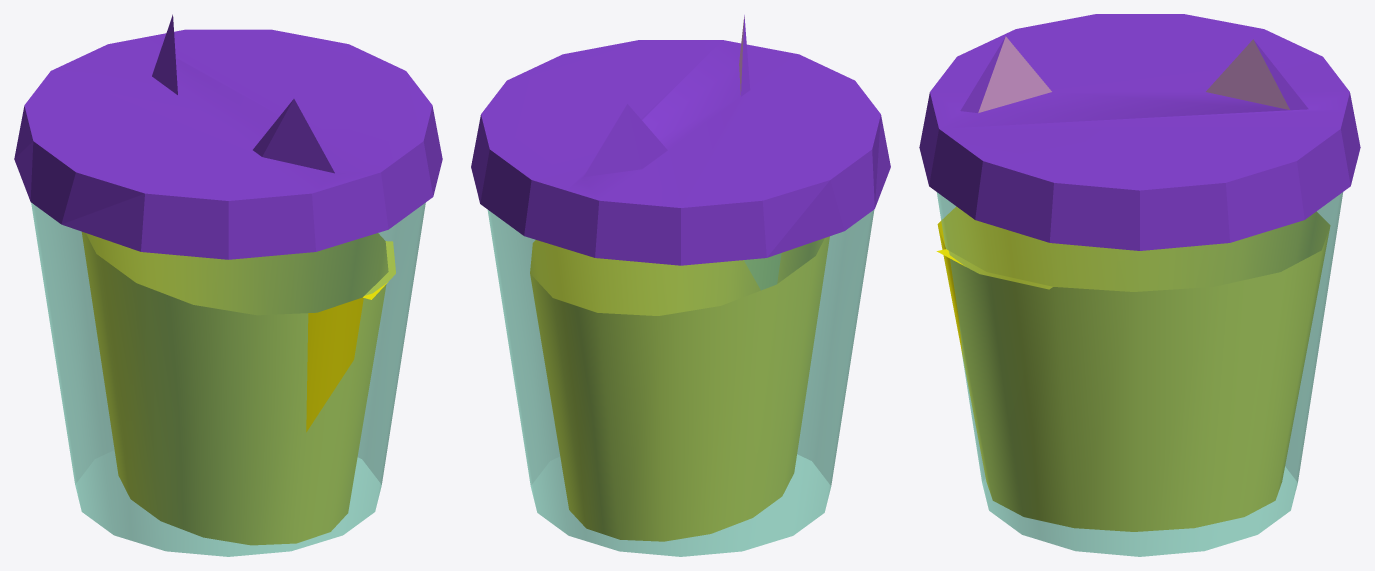
Rendered from BotePisGato.fbx.
3 views of the same model, side by side, from view 1: azimuth 30°, elevation 25°; view 2: azimuth 150°, elevation 25°; view 3: azimuth 270°, elevation 25° (orthographic). The views are drawn at different scales.
Parts seen in each view (by area): view 1: Cylinder001, Cylinder002; view 2: Cylinder001, Cylinder002; view 3: Cylinder001, Cylinder002.
Part boxes in pixels (x1,y1,x2,y2): Cylinder001: [14, 14, 442, 556]; Cylinder002: [82, 232, 395, 545]; Cylinder001: [471, 15, 890, 556]; Cylinder002: [530, 236, 829, 541]; Cylinder001: [919, 14, 1360, 556]; Cylinder002: [936, 206, 1330, 531].
Bounding box in the file's own units: 0.4256 × 0.486 × 0.428.
